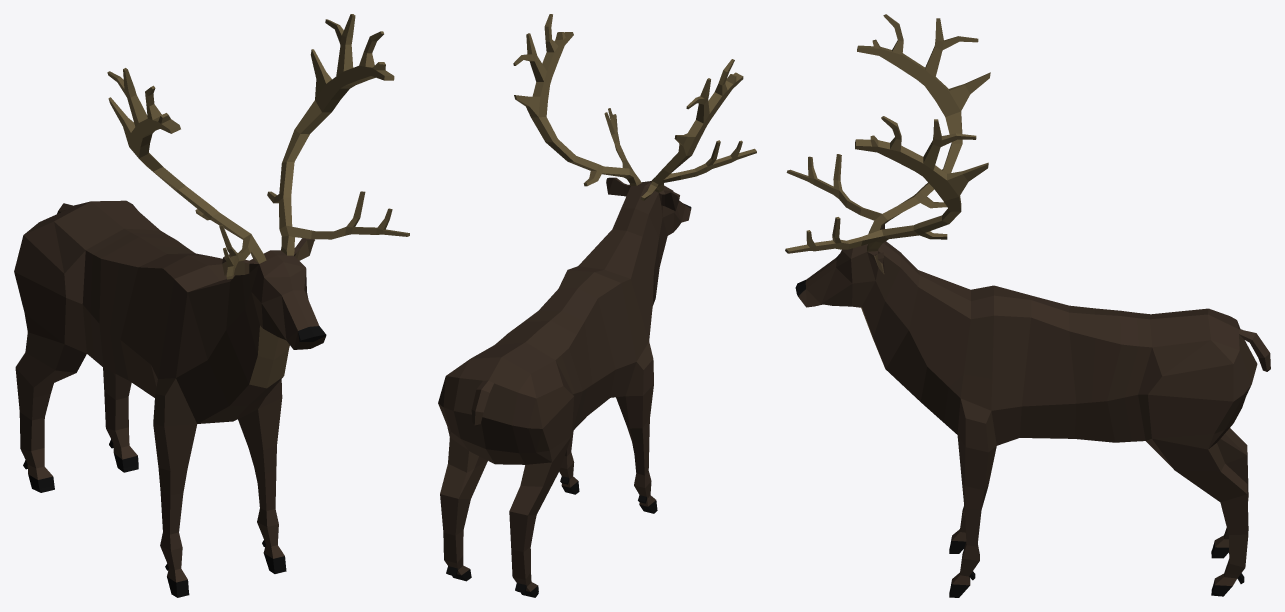
The model's file is Reindeer.obj.
The picture shows the model from 3 angles, left to right: view 1: azimuth 30°, elevation 25°; view 2: azimuth 150°, elevation 25°; view 3: azimuth 270°, elevation 25°; orthographic projection. The views are drawn at different scales.
Parts seen in each view (by area): view 1: Reindeer_Cylinder; view 2: Reindeer_Cylinder; view 3: Reindeer_Cylinder.
Boxes of the visible parts, x1=… form: Reindeer_Cylinder: x1=14, y1=14, x2=409, y2=597; Reindeer_Cylinder: x1=438, y1=14, x2=756, y2=597; Reindeer_Cylinder: x1=785, y1=14, x2=1270, y2=597.
Size of the model in its own units: 2.82 by 6.46 by 5.59.
